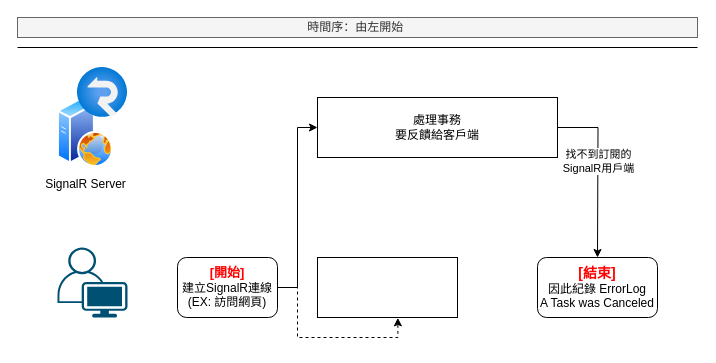
Some shapes in this 716 by 363 pixel diagram are drawn without their labels. The shapes that lost their labels are listed below. From the top down, each one's centre as x and y in pixels, then its label:
At (92,282): "客戶端-瀏覽網頁".
At (387,287): "伺服器尚未回傳，用戶的網路不穩，或自行關閉".
